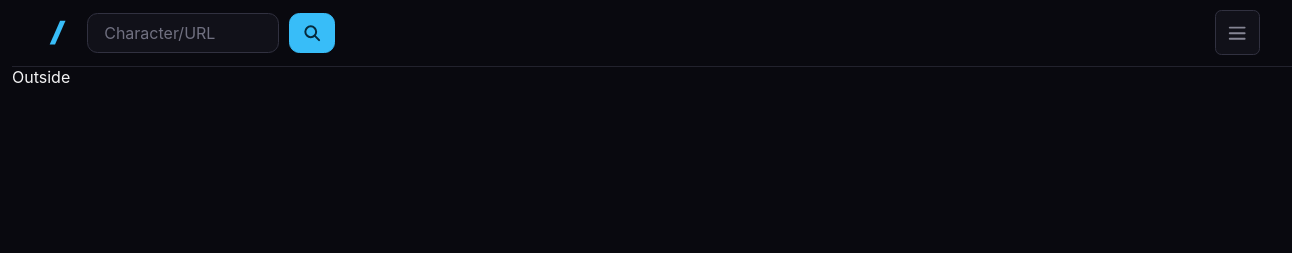
Scenario: closes the menu with Escape and outside clicks
Click the button named "Open menu" at (1238, 33), box [1215,10,1260,55]
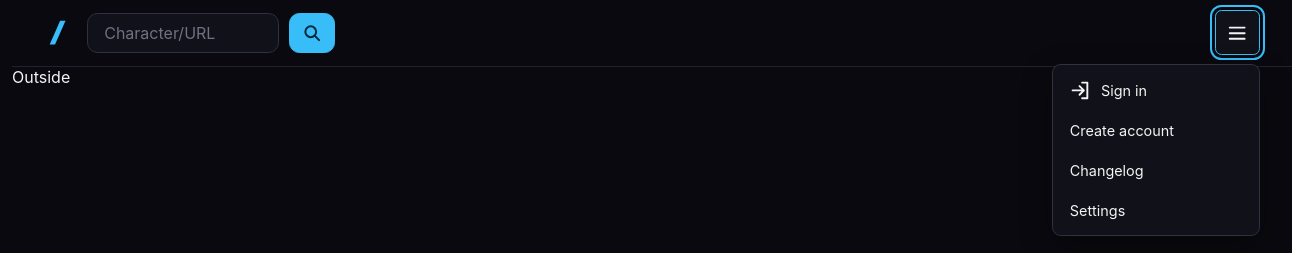
Press Escape
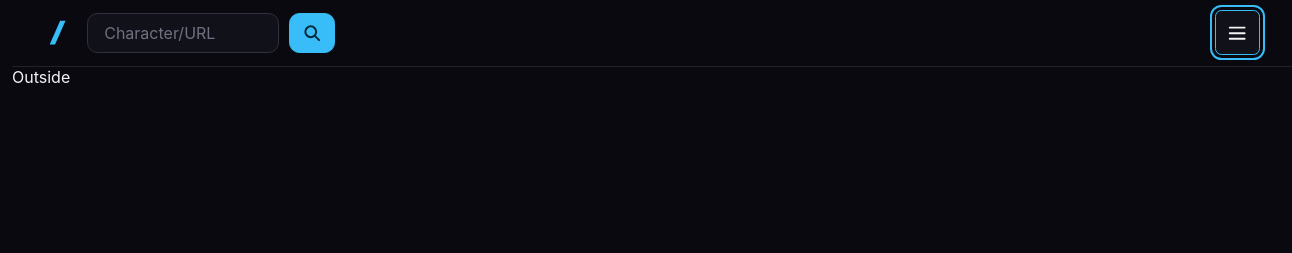
expect the navigation bar "Primary" is gone: met
Click the button named "Open menu" at (1238, 33), box [1215,10,1260,55]
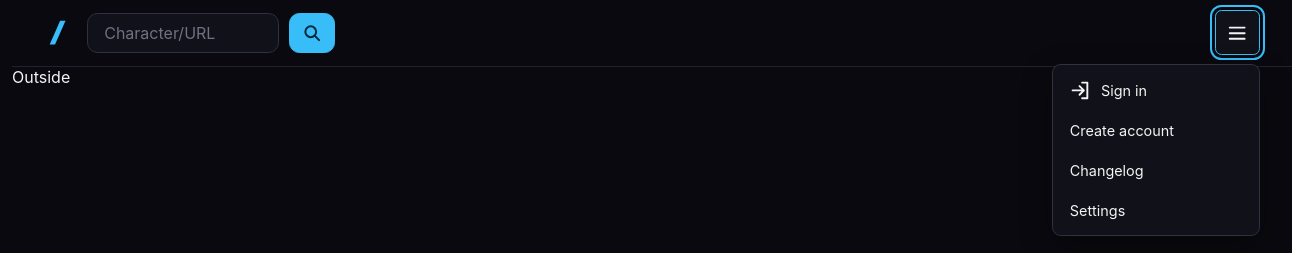
Click the text "Outside" at (41, 77), box [12,67,70,87]
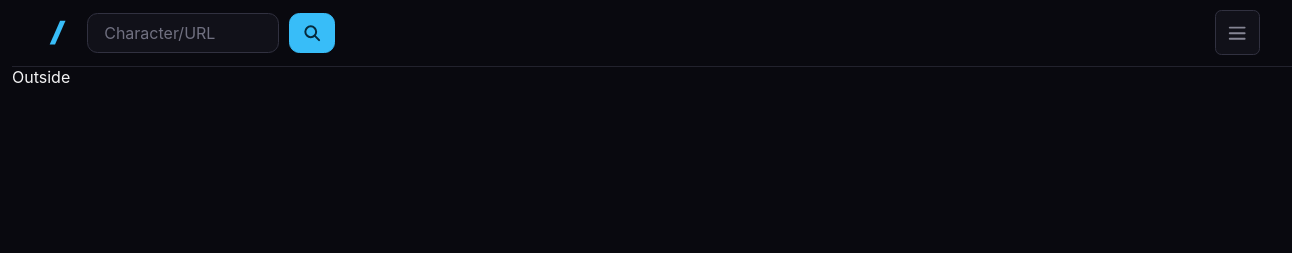
expect the navigation bar "Primary" is gone: met
expect the button named "Open menu" is collapsed: met, box [1215,10,1260,55]
